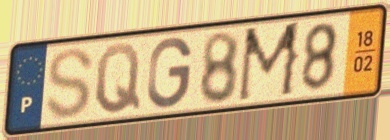8: (197, 29, 240, 106), (298, 20, 341, 95)
G: (145, 34, 195, 112)
M: (235, 18, 305, 106)
Q: (93, 41, 143, 117)
S: (43, 46, 97, 122)
